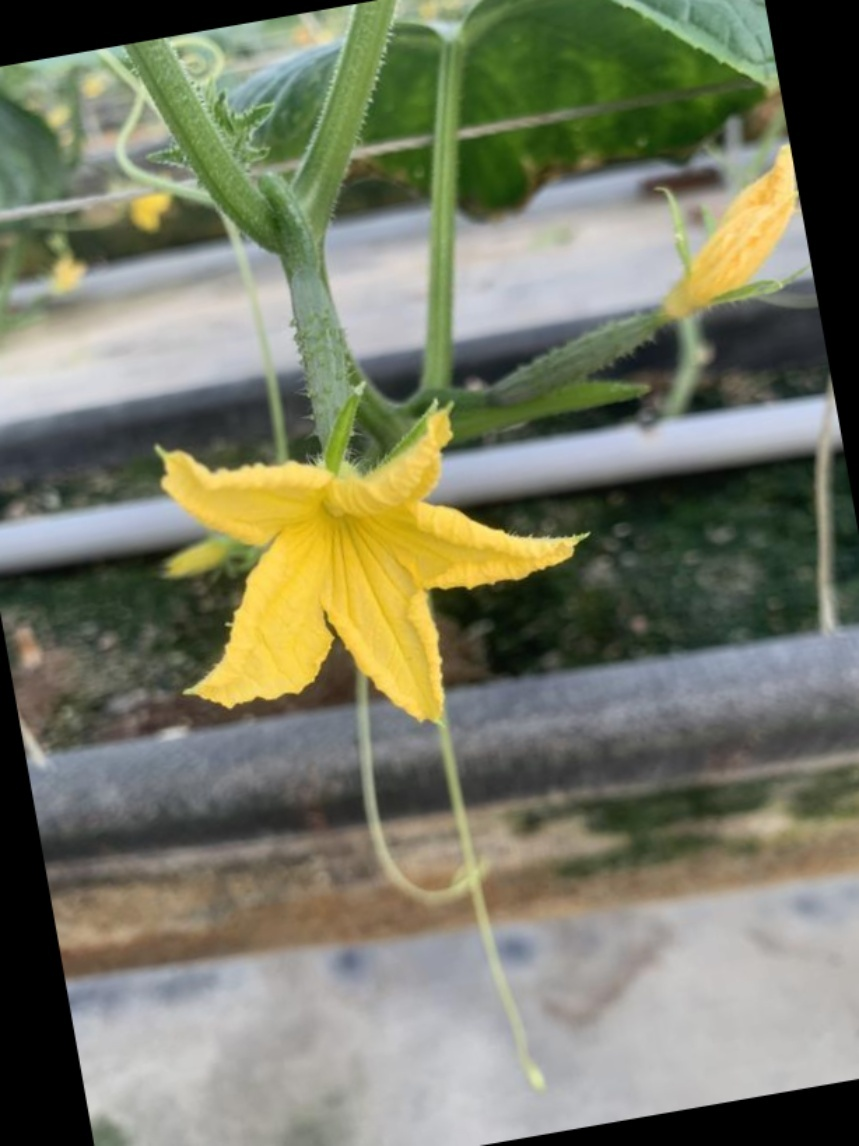bear: (469, 154, 798, 427)
flowering: (142, 382, 585, 728)
